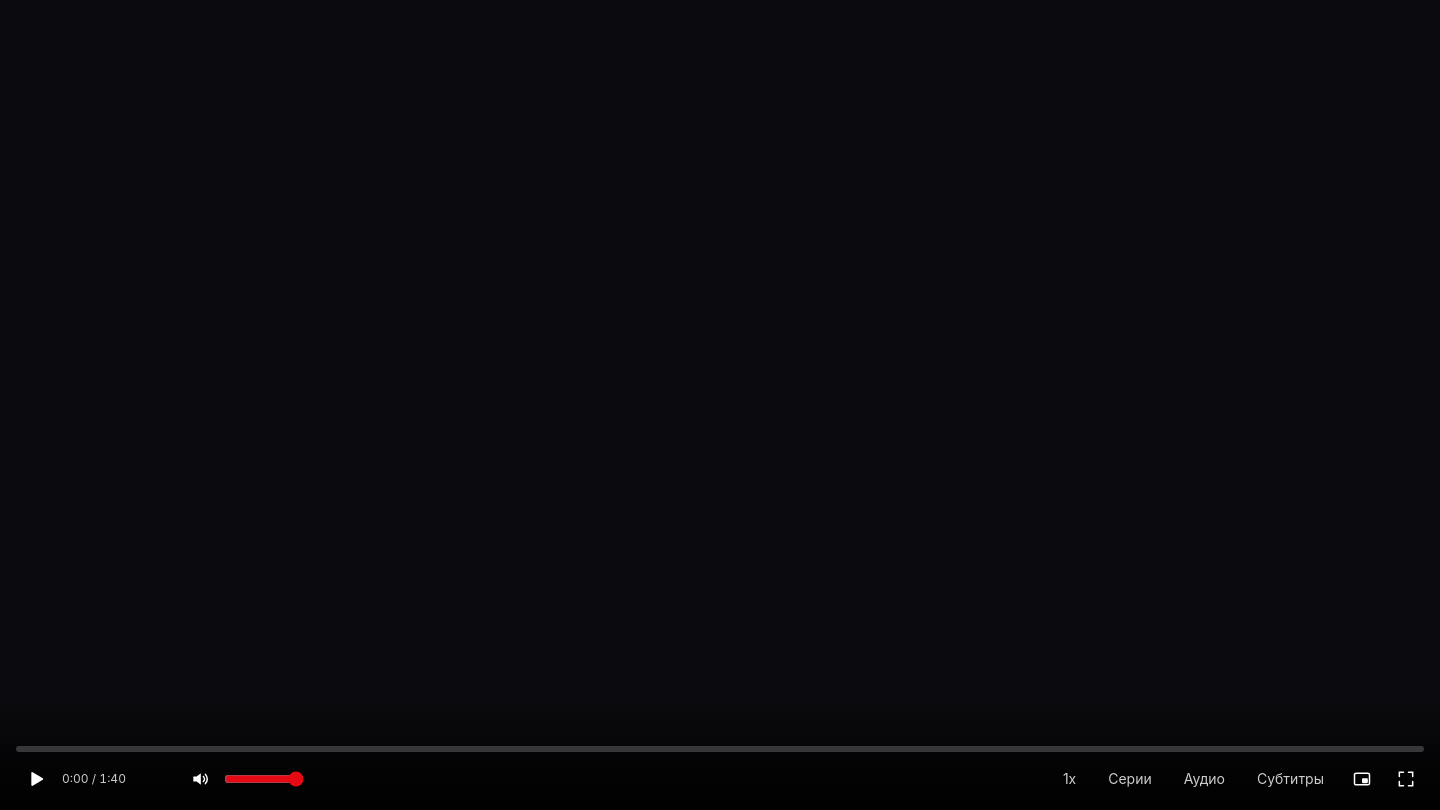
Scenario: меню выбора серии в плеере › открывается на сезоне текущей серии, а не на первом
Click the button with test id "menu-серии" at (1130, 779), box [1096, 763, 1164, 795]
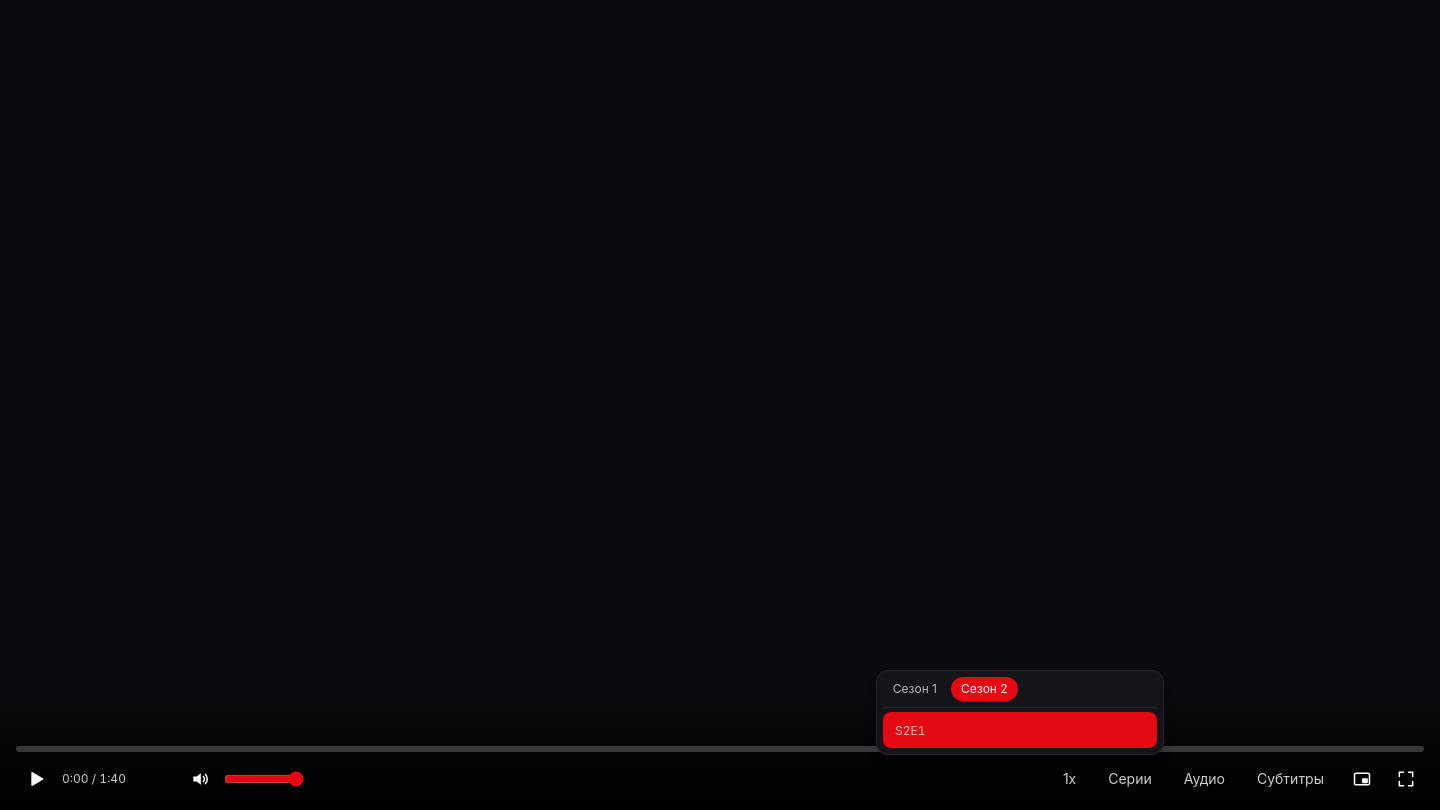
Now the button with test id "player-episode-201" is shown, box [883, 712, 1157, 748]
